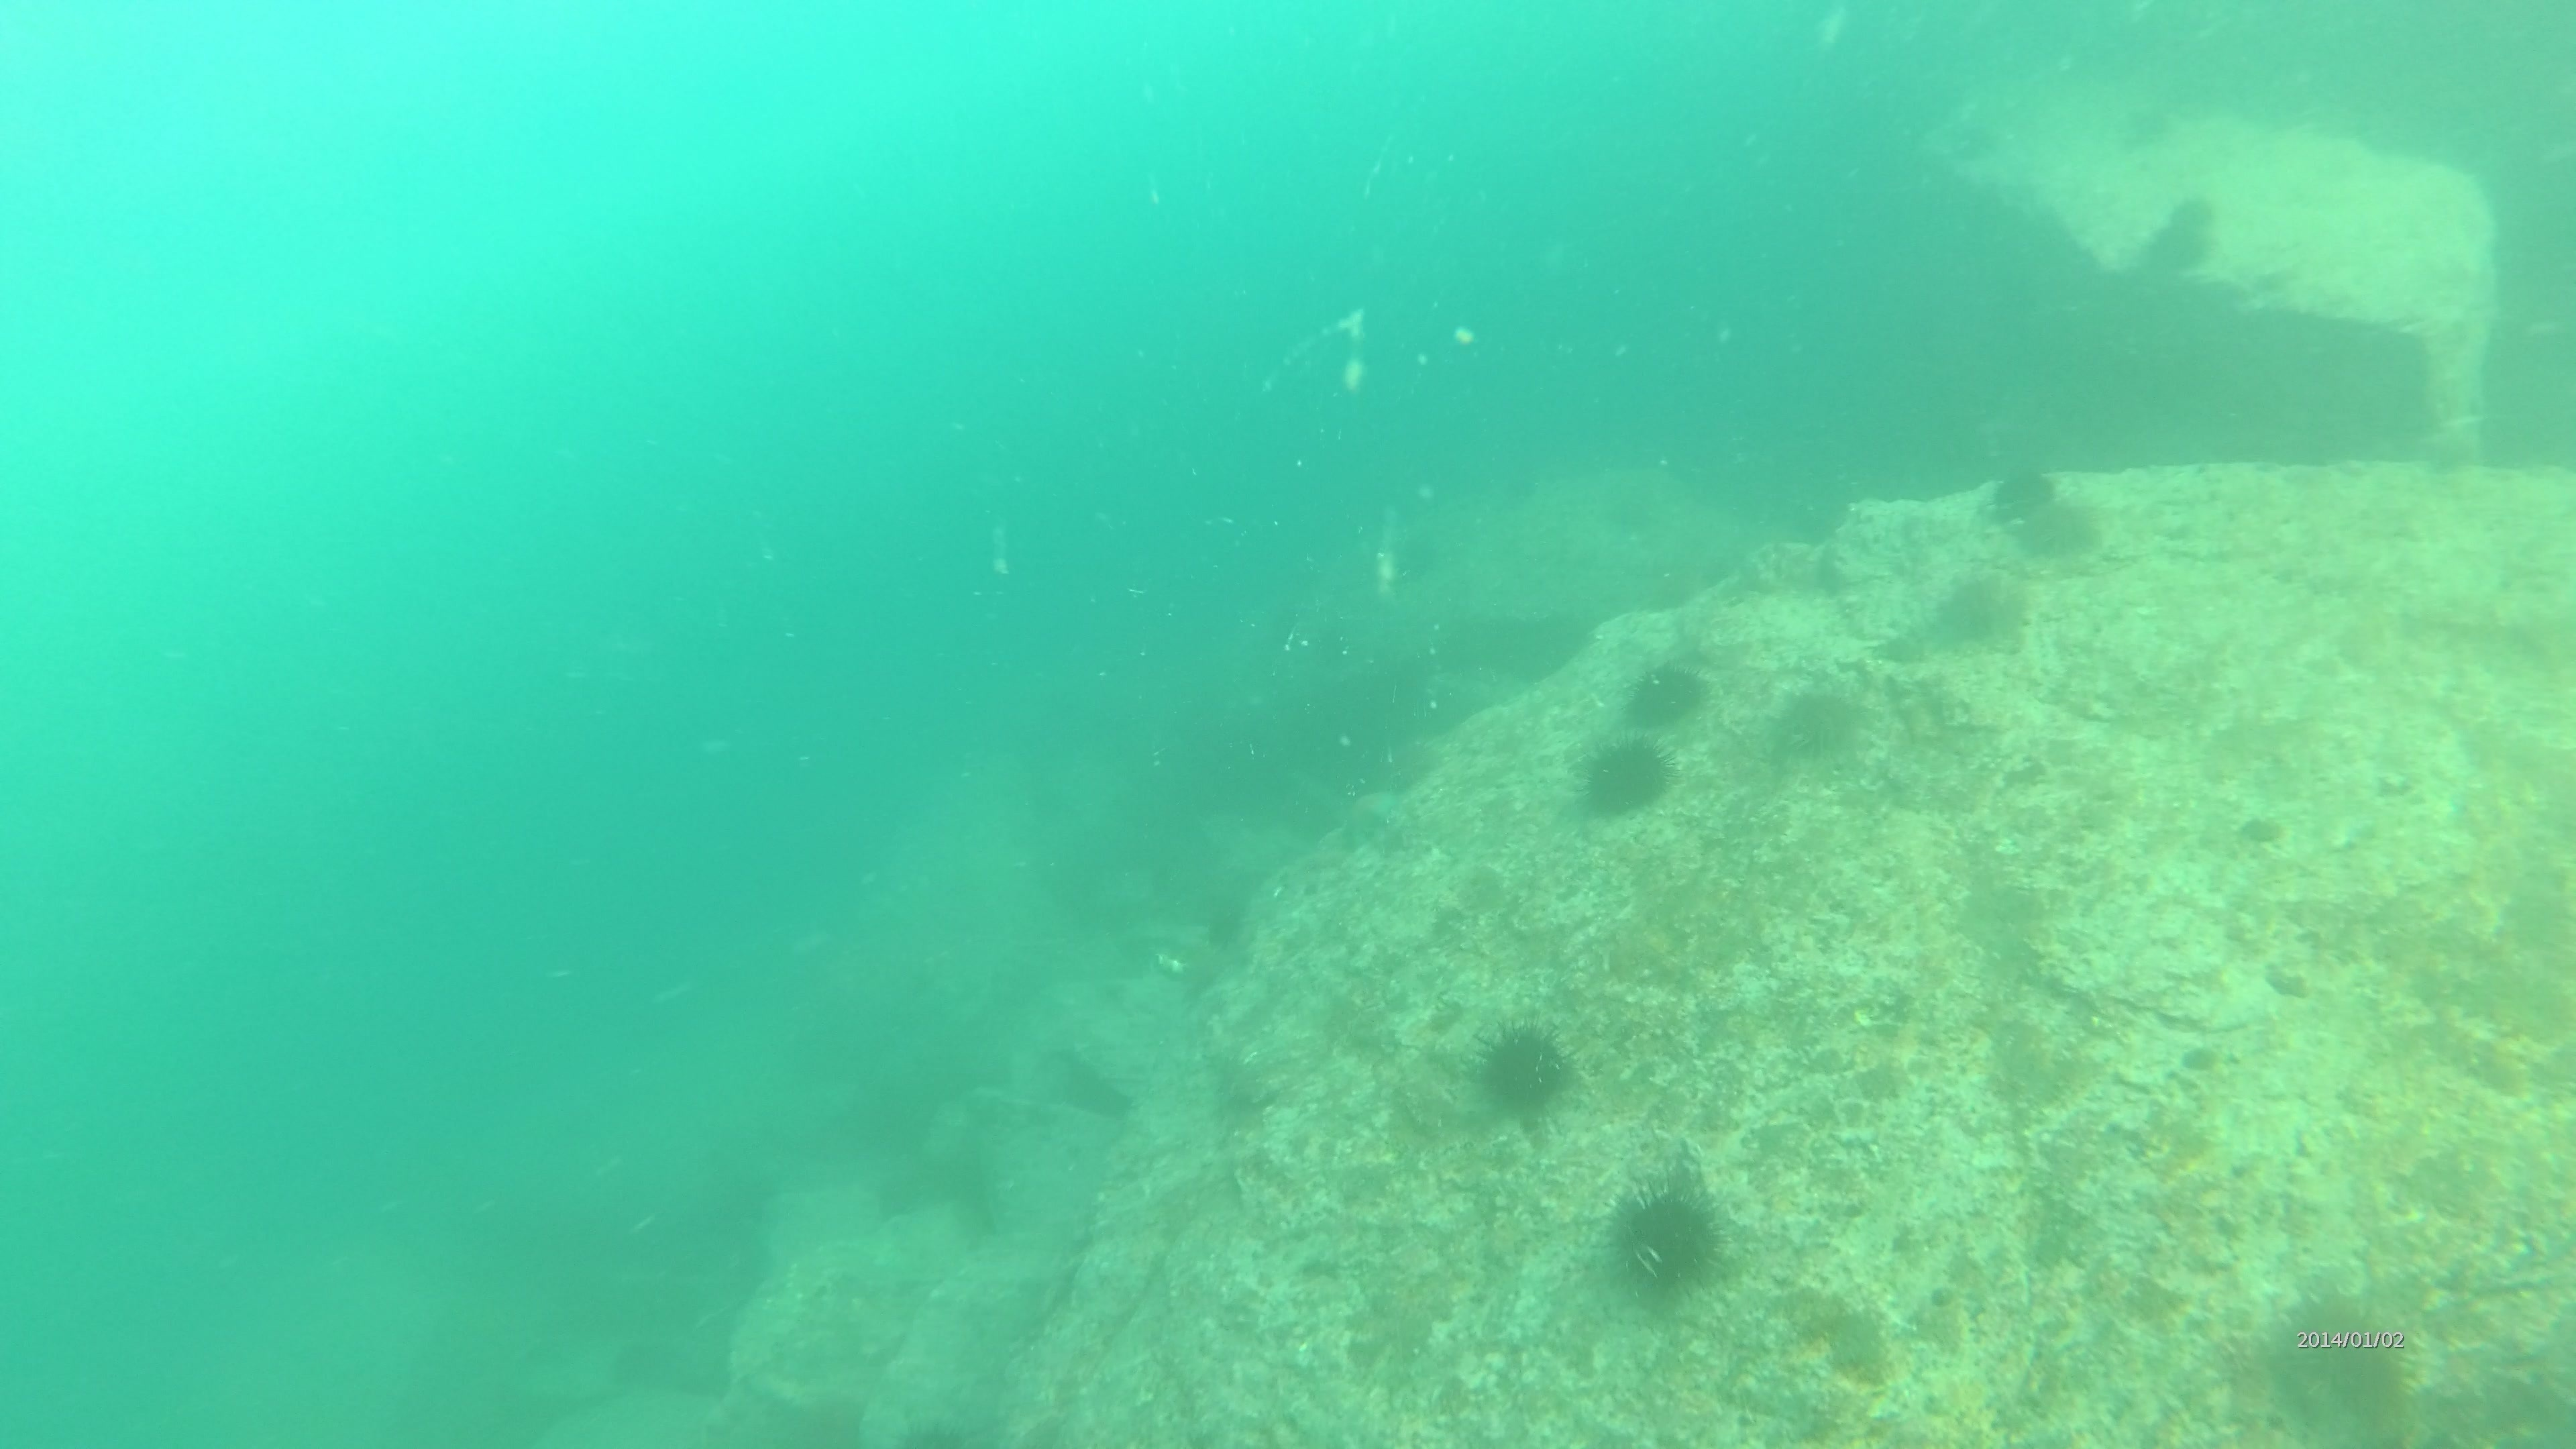echinus: (2259, 1283, 2424, 1438), (1599, 1175, 1732, 1307), (1468, 1014, 1580, 1123), (1769, 674, 1872, 770), (1573, 731, 1675, 823), (1930, 564, 2031, 653), (1619, 653, 1713, 732), (2006, 495, 2107, 566), (1980, 456, 2068, 534), (2112, 92, 2181, 156), (2144, 228, 2206, 278), (2164, 193, 2219, 226)
